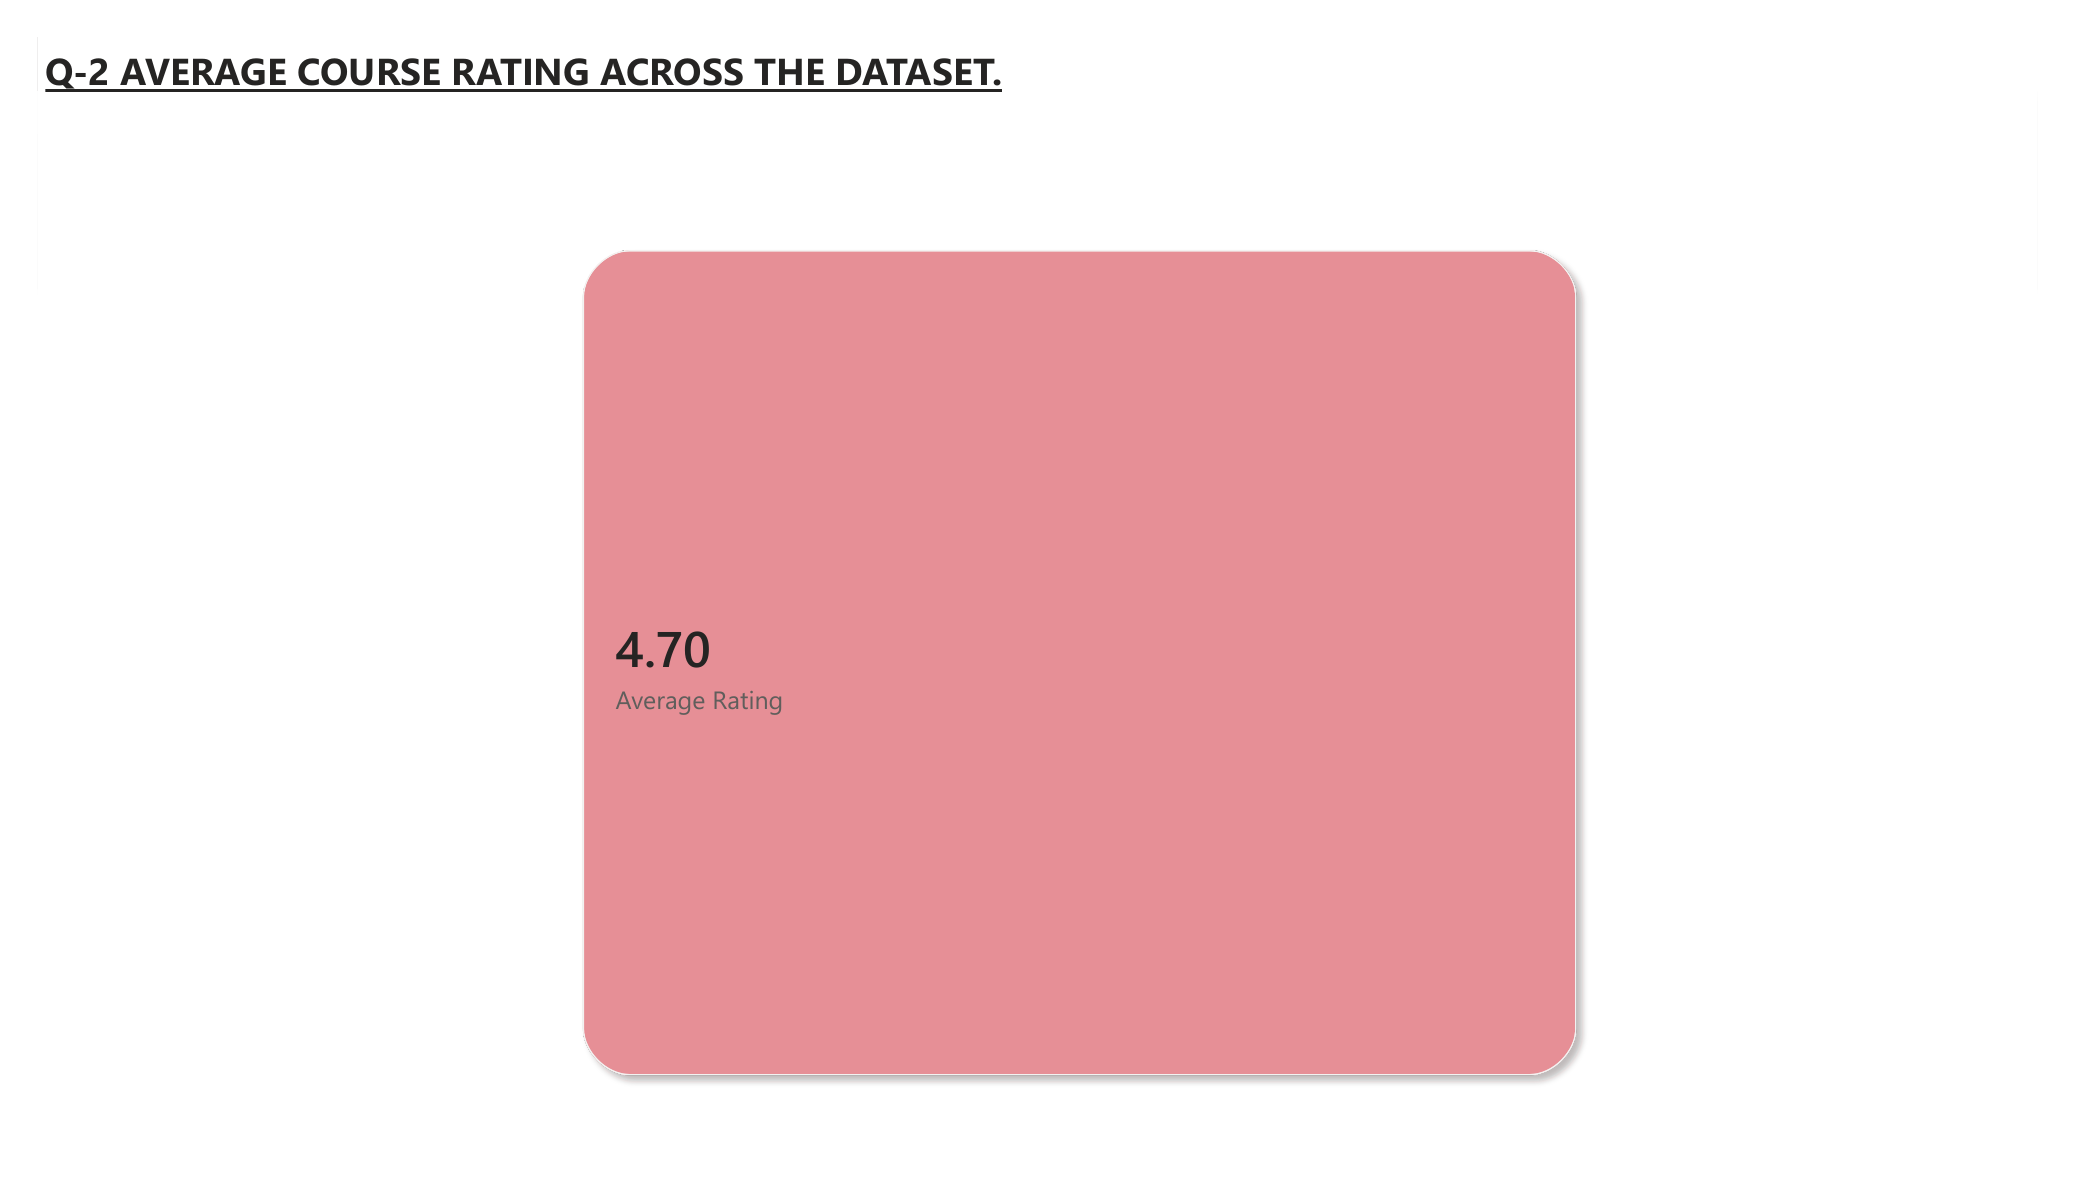

This screenshot's page, from the dashboard's own definition file:
{"tool":"powerbi","page":{"name":"Q-2","canvas":[1280,720],"ordinal":2},"visuals":[{"type":"cardVisual","fields":{"Data":["Online_Courses.Average Rating"]},"box":[319.7,107,694.3,585.9],"z":0},{"type":"textbox","box":[0,0,666.9,61.7],"z":1000}]}

Visuals, with their boxes on the page's 1280x720 design canvas (x1, y1, x2, y2). These are canvas units, not pixel positions in the 2075x1200 screenshot, which may show the page scaled, cropped or inside an application window:
cardVisual - Online_Courses.Average Rating: [320, 107, 1014, 693]
textbox: [0, 0, 667, 62]
